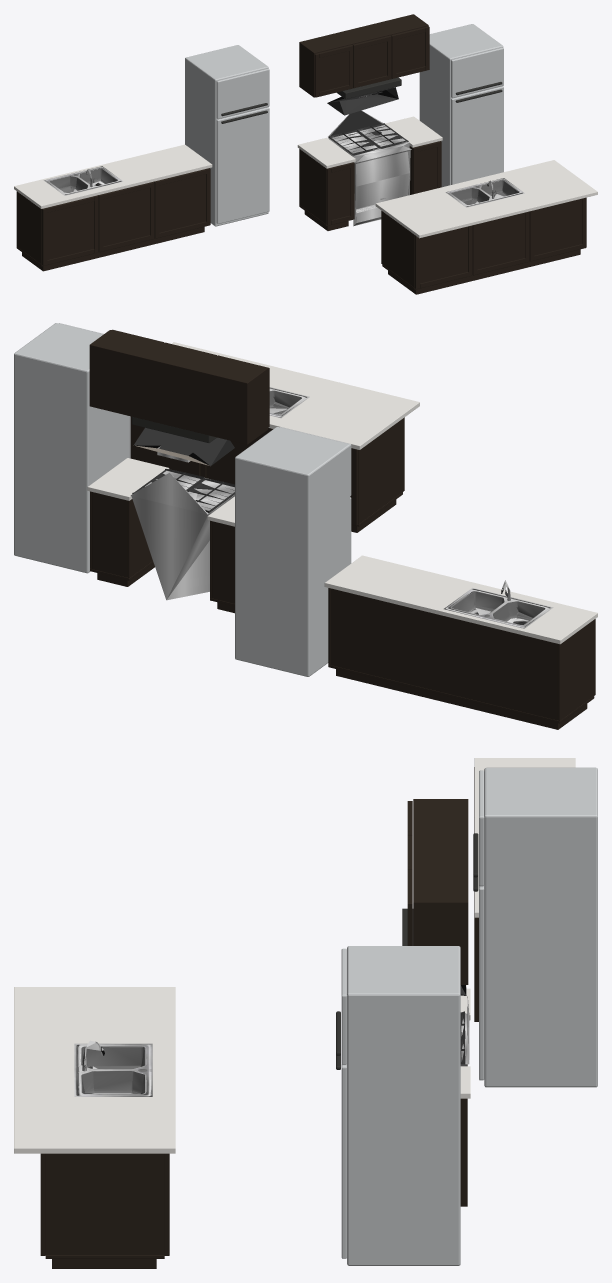
The model's file is utah-kitchen-repair-v4.glb.
3 views of the same model, one above another, from view 1: azimuth 30°, elevation 25°; view 2: azimuth 150°, elevation 25°; view 3: azimuth 270°, elevation 25° (orthographic). The views are drawn at different scales.
Visible parts, largest first — view 1: Utah kitchen - retained sink, taps and range, Island white stone with sink cutout, Annex refrigerator lower door, Annex refrigerator enclosed body, Main refrigerator lower door, Main refrigerator enclosed body, Annex stone with sink cutout, Upper cabinet body, Annex kitchenette base door 1 recessed panel, Annex kitchenette base door 3 recessed panel, Annex kitchenette base door 2 recessed panel, Main island door 1 recessed panel (+17 smaller); view 2: Annex refrigerator enclosed body, Main refrigerator enclosed body, Annex kitchenette base back, Upper cabinet body, Utah kitchen - retained sink, taps and range, Annex stone with sink cutout, Island white stone with sink cutout, Main island left side, Annex kitchenette base left side, Range right base back, Annex kitchenette base recessed plinth, Range right base white stone (+7 smaller); view 3: Annex refrigerator enclosed body, Main refrigerator enclosed body, Island white stone with sink cutout, Main island right side, Upper cabinet body, Utah kitchen - retained sink, taps and range, Annex stone with sink cutout, Annex refrigerator lower door, Main refrigerator lower door, Main island recessed plinth, Range right base right side, Annex refrigerator freezer door (+1 smaller).
Part boxes in pixels (box(x1,y1,x2,y2)): Utah kitchen - retained sink, taps and range: box(44, 87, 524, 226); Island white stone with sink cutout: box(375, 160, 597, 238); Annex refrigerator lower door: box(216, 107, 269, 223); Annex refrigerator enclosed body: box(185, 45, 268, 226); Main refrigerator lower door: box(451, 86, 503, 184); Main refrigerator enclosed body: box(419, 24, 503, 187); Annex stone with sink cutout: box(14, 144, 212, 208); Upper cabinet body: box(299, 14, 428, 97); Annex kitchenette base door 1 recessed panel: box(42, 195, 97, 264); Annex kitchenette base door 3 recessed panel: box(154, 168, 209, 232); Annex kitchenette base door 2 recessed panel: box(98, 181, 153, 246); Main island door 1 recessed panel: box(415, 226, 467, 288); Annex refrigerator enclosed body: box(235, 427, 350, 676); Main refrigerator enclosed body: box(14, 323, 129, 573); Annex kitchenette base back: box(330, 588, 557, 720); Upper cabinet body: box(89, 330, 267, 444); Utah kitchen - retained sink, taps and range: box(130, 387, 553, 628); Annex stone with sink cutout: box(324, 555, 597, 644); Island white stone with sink cutout: box(172, 342, 419, 449); Main island left side: box(358, 419, 402, 523); Annex kitchenette base left side: box(557, 620, 594, 720); Range right base back: box(92, 492, 127, 577); Annex kitchenette base recessed plinth: box(336, 669, 587, 729); Range right base white stone: box(87, 458, 169, 500); Annex refrigerator enclosed body: box(484, 767, 597, 1087); Main refrigerator enclosed body: box(347, 946, 460, 1265); Island white stone with sink cutout: box(14, 987, 175, 1153); Main island right side: box(45, 1153, 164, 1255); Upper cabinet body: box(413, 799, 468, 984); Utah kitchen - retained sink, taps and range: box(74, 985, 469, 1096); Annex stone with sink cutout: box(474, 758, 575, 917); Annex refrigerator lower door: box(479, 885, 484, 1080); Main refrigerator lower door: box(341, 1064, 346, 1258); Main island recessed plinth: box(52, 1259, 156, 1268); Range right base right side: box(460, 1098, 467, 1203); Annex refrigerator freezer door: box(479, 770, 484, 886).
Size of the model in its own units: 5.86 by 2.23 by 3.7.
Materials: 22 (9 with a texture image).
